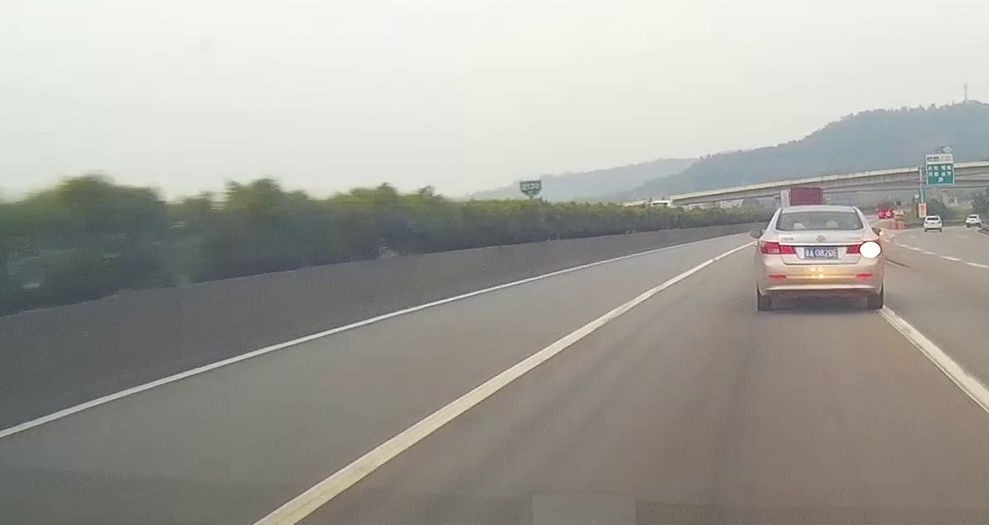L_light: (760, 240, 796, 255)
R_light: (845, 238, 881, 255)
T_light: (809, 228, 830, 230)
day-right: (754, 205, 884, 311)
